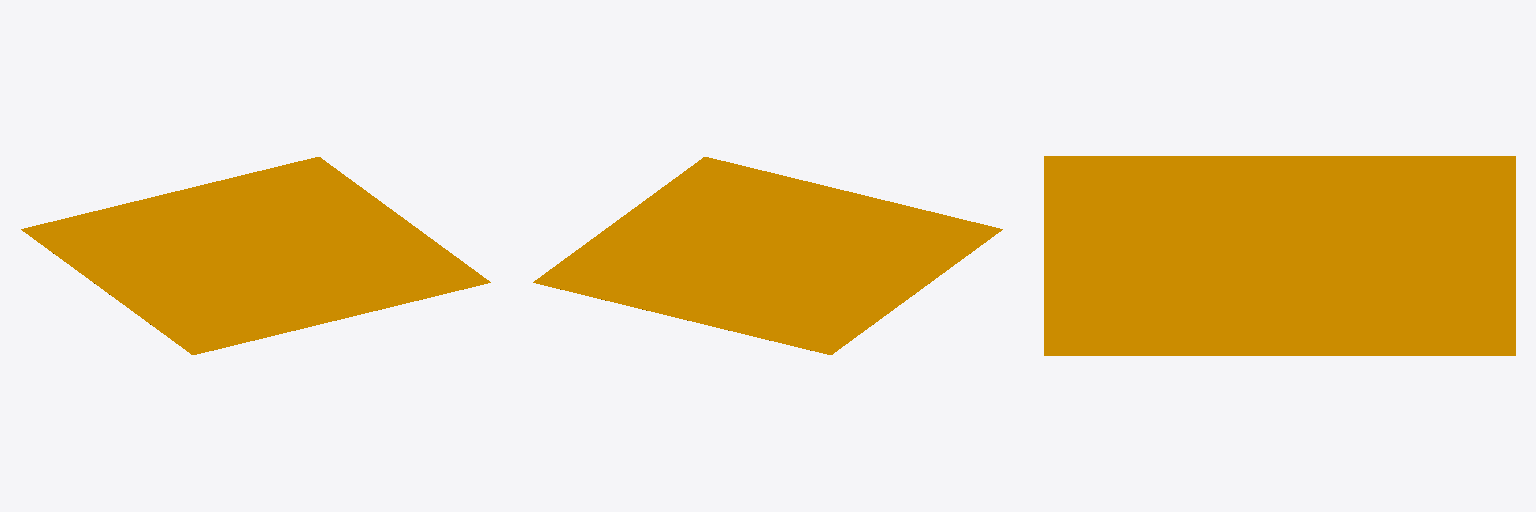
The robot description file, URDF, robot "plane":
<?xml version="1.0"?>
<robot name="plane">
  <link name="base_link">
    <collision>
      <geometry>
        <box size="1000 1000 0.1"/>  <!-- A flat plane -->
      </geometry>
    </collision>
    <visual>
      <geometry>
        <box size="1000 1000 0.1"/>  <!-- A flat plane -->
      </geometry>
      <material name="gray"/>
    </visual>
  </link>
</robot>

--- Facts derived from the render (not from the file) ---
The picture shows the robot from 3 angles, left to right: view 1: azimuth 30°, elevation 25°; view 2: azimuth 150°, elevation 25°; view 3: azimuth 270°, elevation 25°; orthographic projection.
Robot: plane — 1 links, 0 joints (none); root link base_link; default pose: every joint at zero.
Visible links, largest first — view 1: base_link; view 2: base_link; view 3: base_link.
Boxes of the visible links, x1,y1,x2,y2 form: base_link: [21, 157, 490, 354]; base_link: [533, 157, 1002, 354]; base_link: [1044, 156, 1515, 355].
Bounding box of the posed robot: 1000 × 1000 × 0.1 m (x, y, z).
Geometry: primitives only (box / cylinder / sphere), no mesh files.
